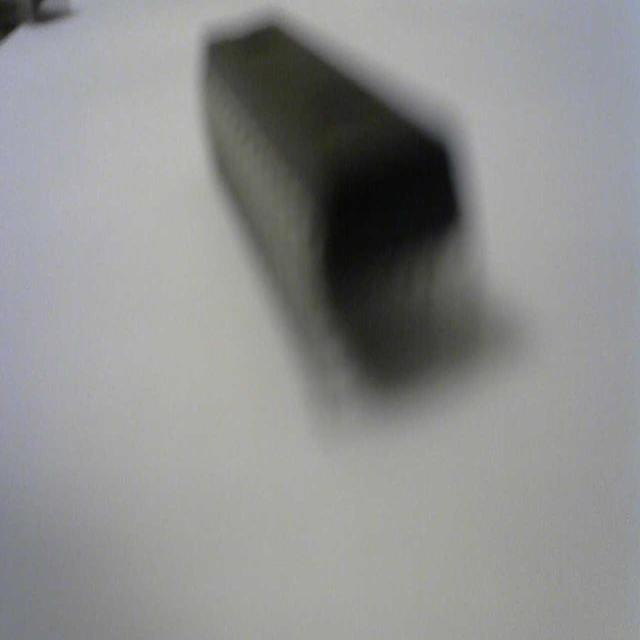atmega: (197, 13, 497, 409)
